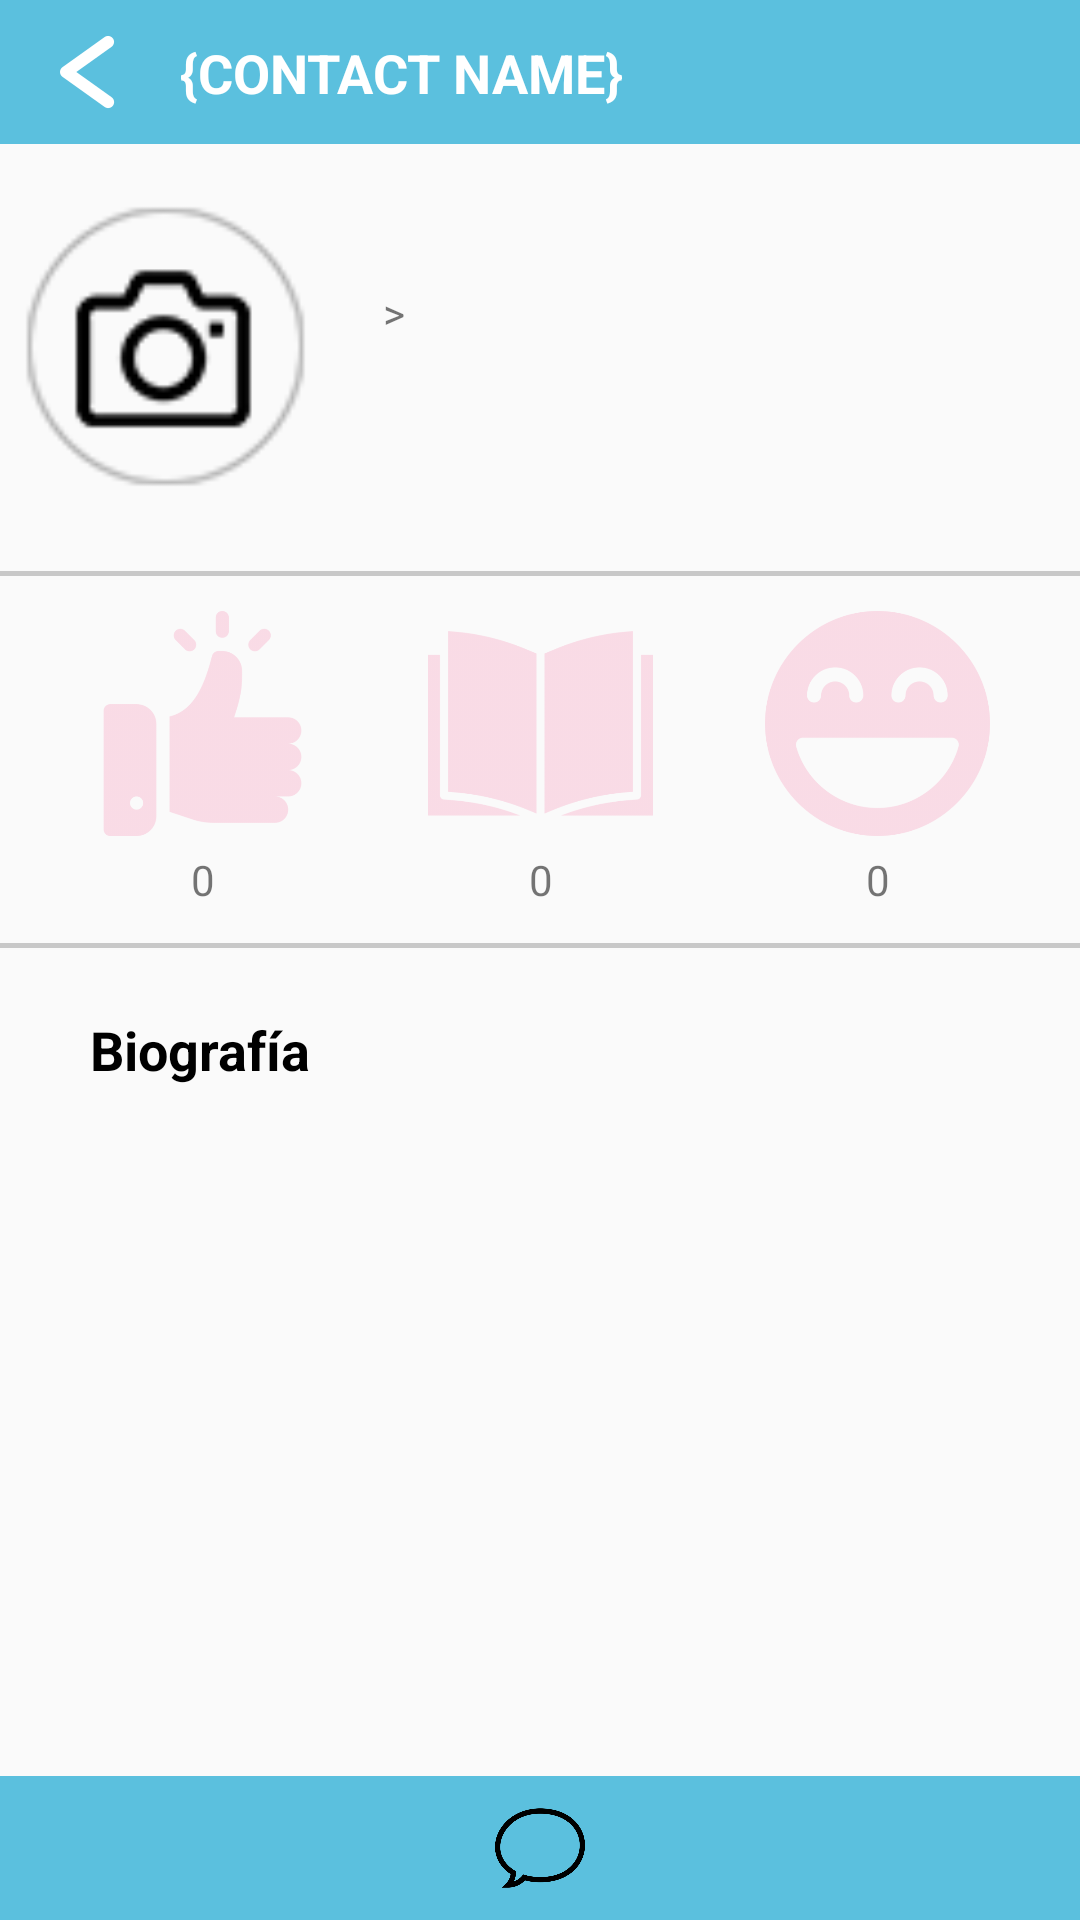

Screen size 1080×1920. Icon name, then its box in pixels as [x1, y1, x2, y2]:
comentario: [495, 1808, 585, 1888]
laughing: [765, 611, 990, 836]
libro: [428, 631, 653, 815]
like: [104, 611, 301, 836]
profile pic: [27, 208, 304, 485]
